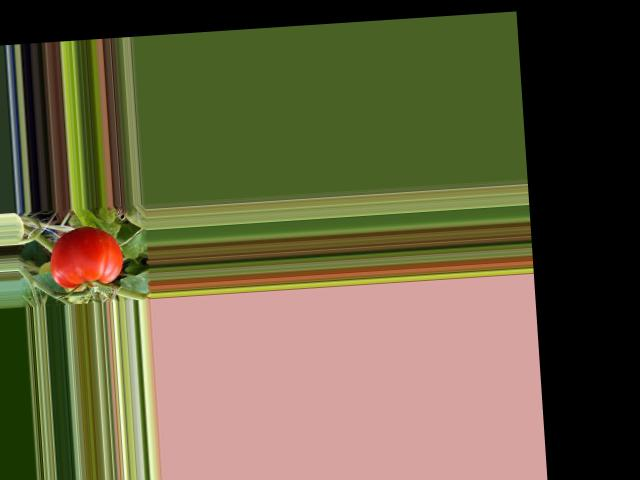tomato: (47, 224, 124, 289)
